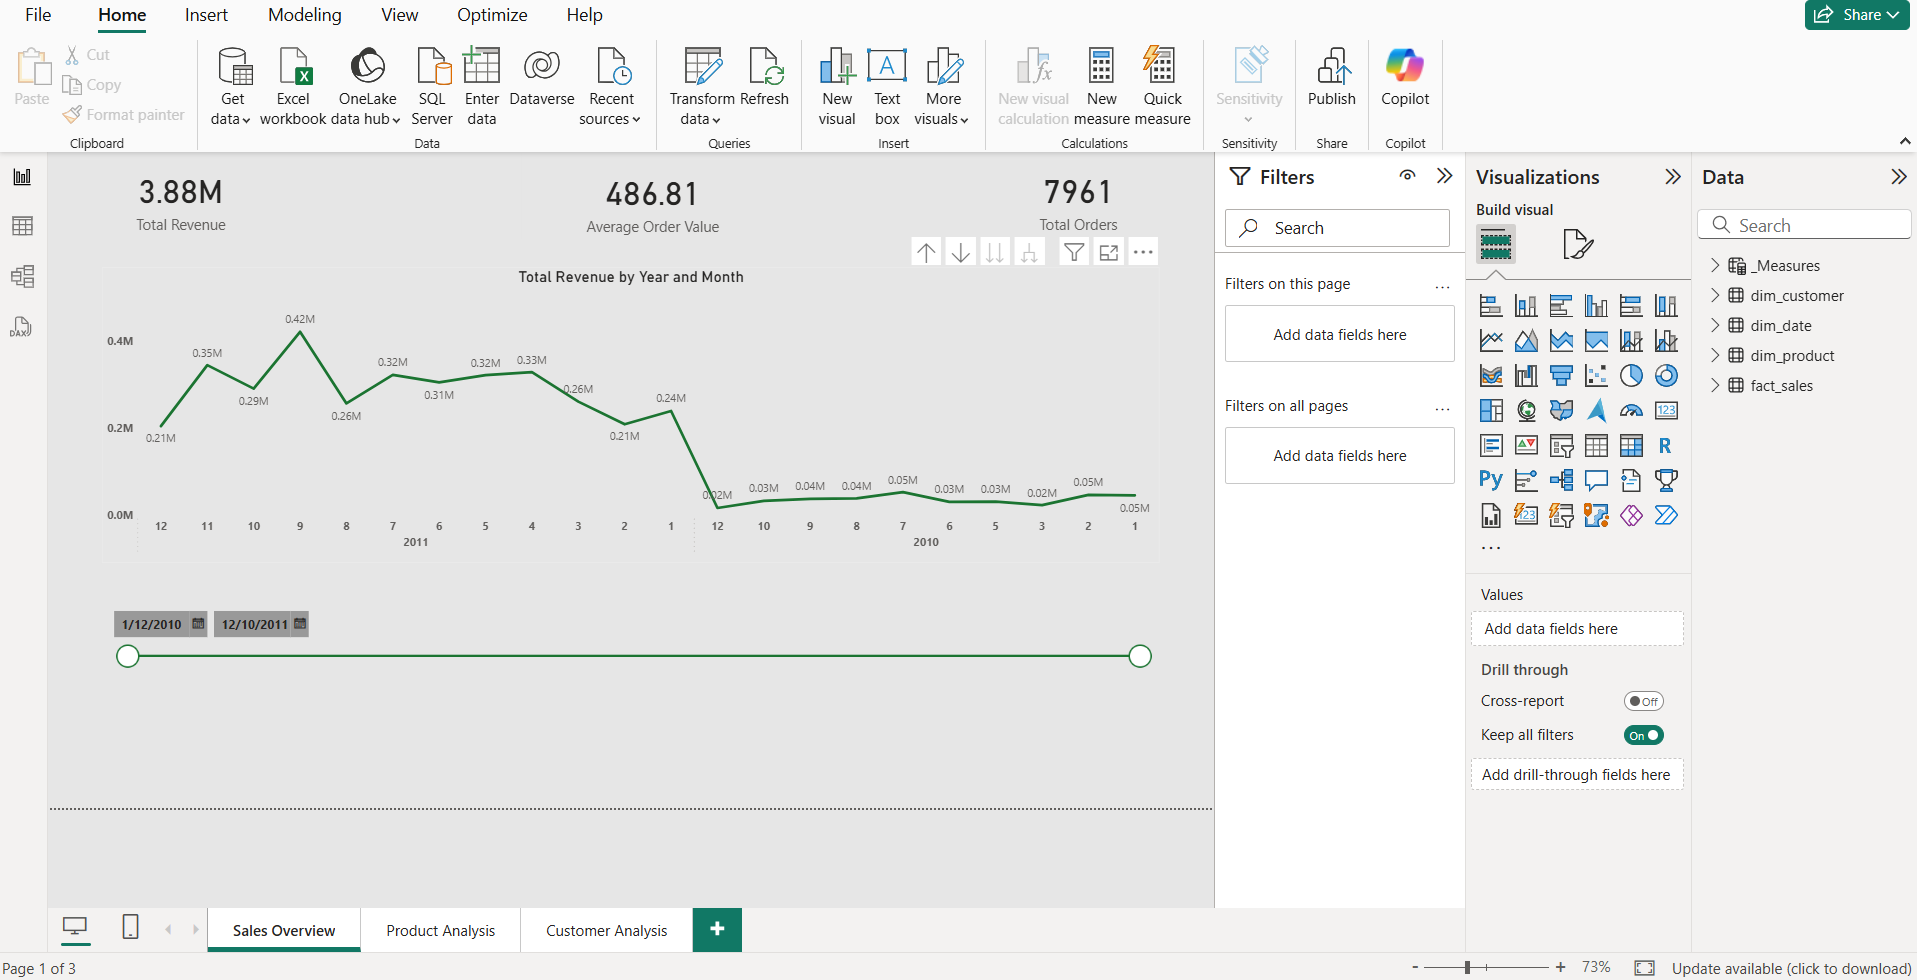

What the dashboard file says about the page in this screenshot:
{"tool":"powerbi","page":{"name":"Sales Overview","canvas":[1280,720],"ordinal":0},"visuals":[{"type":"card","fields":{"Values":["_Measures.Total Revenue"]},"box":[0,0,292.3,102.9],"z":0},{"type":"card","fields":{"Values":["_Measures.Average Order Value"]},"box":[520.1,1.4,288.2,102.9],"z":1000},{"type":"card","fields":{"Values":["_Measures.Total Orders"]},"box":[982.5,0,297.8,102.9],"z":2000},{"type":"lineChart","fields":{"Category":["dim_date.Year","dim_date.Month"],"Y":["_Measures.Total Revenue"]},"box":[59,126.2,1160.9,325.2],"z":3000},{"type":"slicer","fields":{"Values":["dim_date.FullDate"]},"box":[59,492.6,1160.9,161.9],"z":4000}]}

Visuals, with their boxes on the page's 1280x720 design canvas (x1, y1, x2, y2). These are canvas units, not pixel positions in the 1917x980 screenshot, which may show the page scaled, cropped or inside an application window:
card - _Measures.Total Revenue: region(0, 0, 292, 103)
card - _Measures.Average Order Value: region(520, 1, 808, 104)
card - _Measures.Total Orders: region(982, 0, 1280, 103)
lineChart - dim_date.Year x dim_date.Month: region(59, 126, 1220, 451)
slicer - dim_date.FullDate: region(59, 493, 1220, 654)
